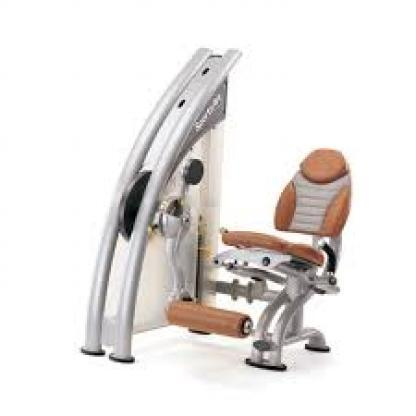leg extension: (73, 37, 350, 390)
